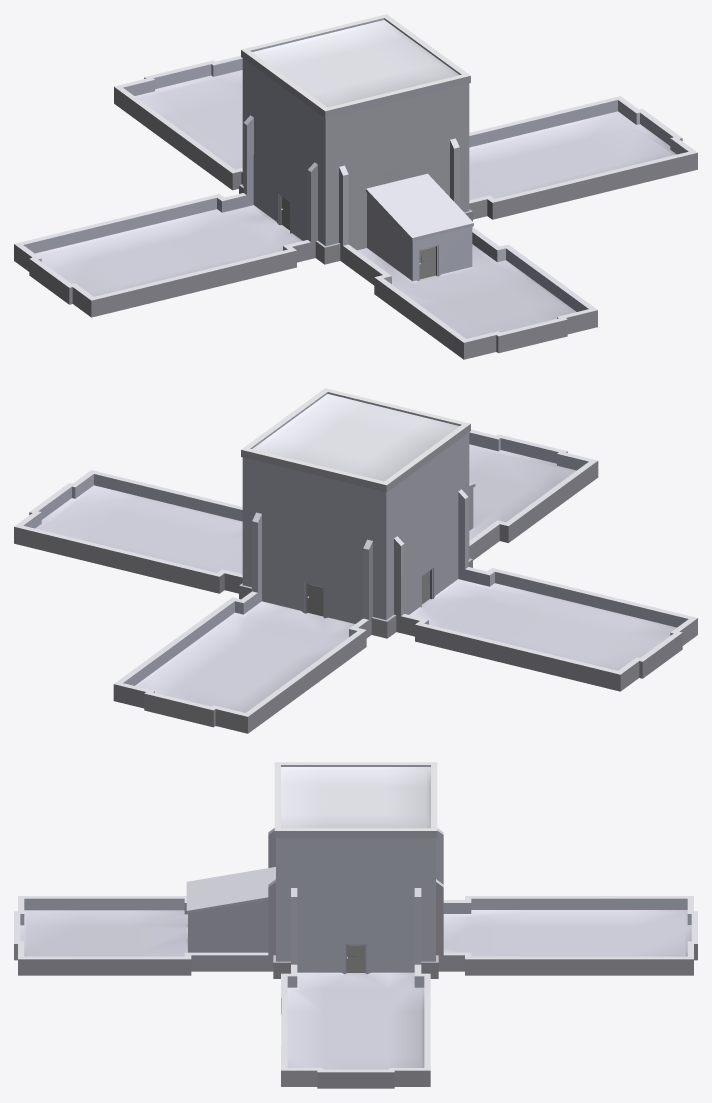
File: ag_opproj_ixr.FBX
3 views of the same model, one above another, from view 1: azimuth 30°, elevation 25°; view 2: azimuth 150°, elevation 25°; view 3: azimuth 270°, elevation 25° (orthographic). The views are drawn at different scales.
Visible parts, largest first — view 1: ag_opproj_ixr; view 2: ag_opproj_ixr; view 3: ag_opproj_ixr.
Part boxes in pixels (x1,y1,x2,y2): ag_opproj_ixr: [14, 14, 697, 359]; ag_opproj_ixr: [14, 388, 697, 733]; ag_opproj_ixr: [14, 762, 697, 1088].
Bounding box in the file's own units: 53.02 × 12.6 × 53.02.
